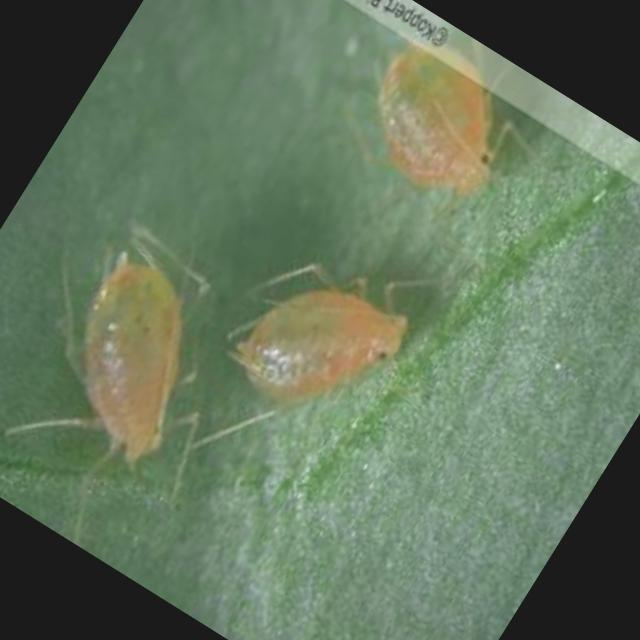Green peach aphid: (168, 170, 506, 506), (0, 190, 300, 549), (299, 22, 582, 282)
